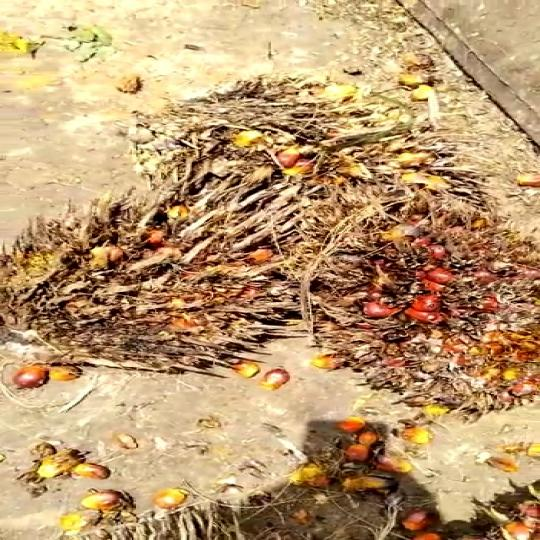terlalu masak: (293, 199, 540, 415), (0, 199, 299, 376), (127, 80, 474, 214)
